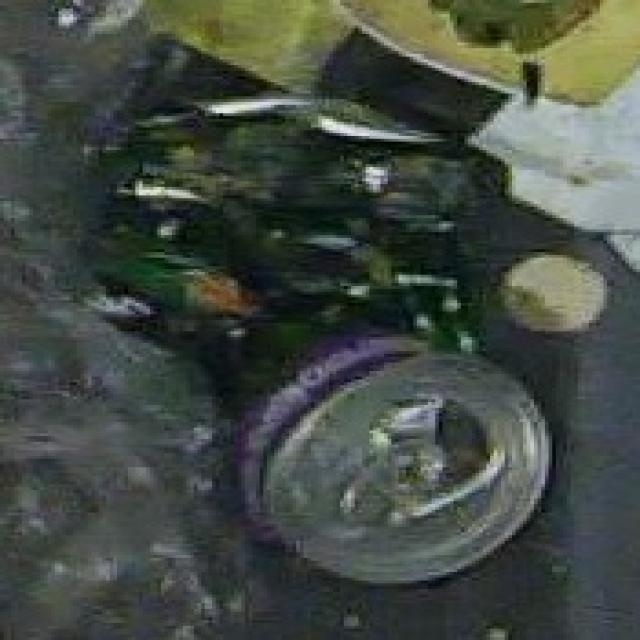litter: (116, 52, 562, 580)
